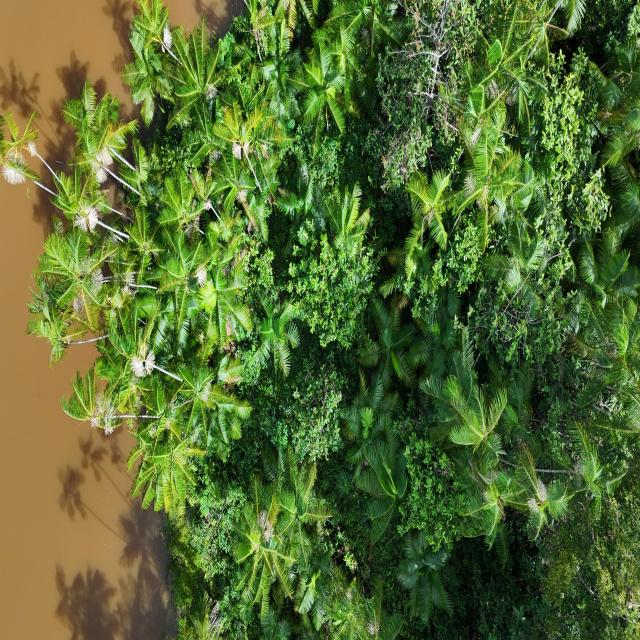vegetation: (2, 1, 638, 638)
